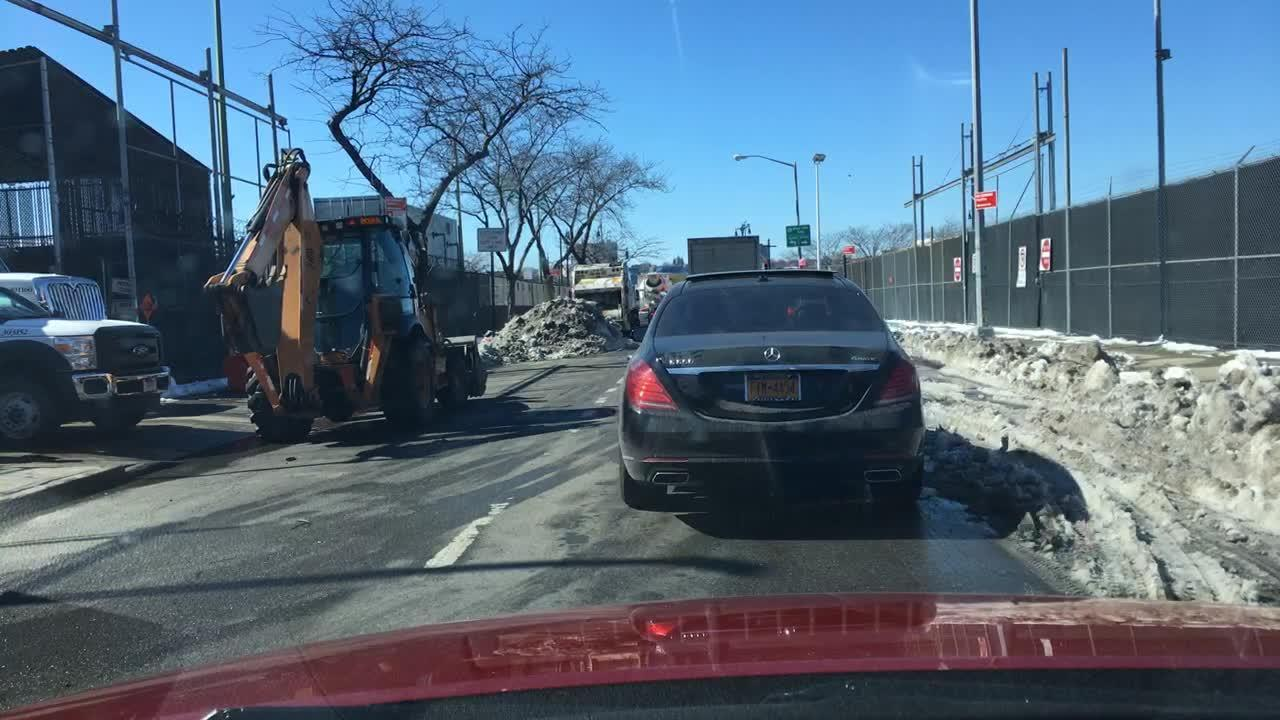Mercedes: (759, 344, 785, 366)
